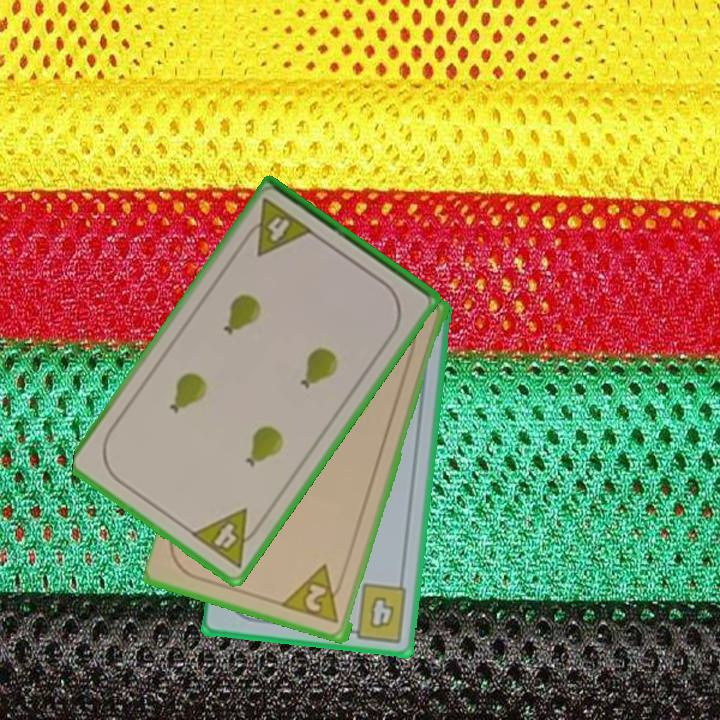2p: (281, 561, 347, 627)
4b: (342, 580, 411, 645)
4p: (187, 505, 267, 572), (238, 195, 316, 260)
